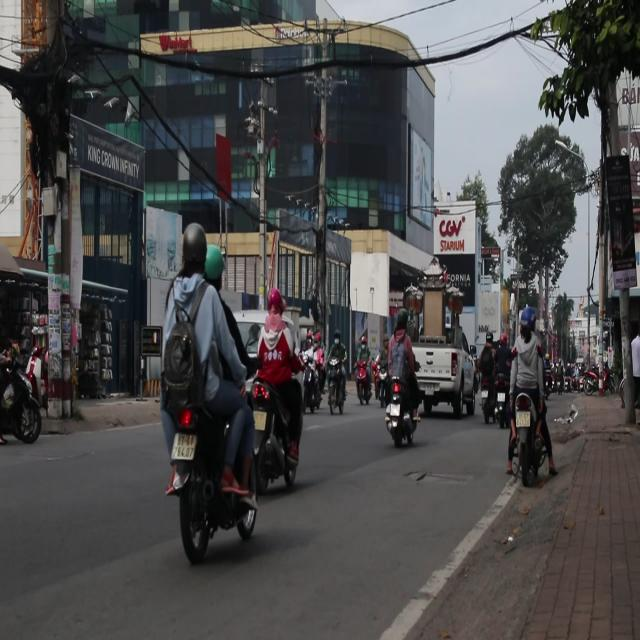car: (232, 319, 266, 366)
motorbike: (166, 370, 261, 565), (239, 370, 303, 498), (1, 348, 46, 444), (382, 378, 421, 448), (300, 348, 323, 415), (326, 354, 348, 413), (374, 367, 389, 406), (597, 371, 613, 396), (581, 373, 596, 394)
truck: (411, 336, 477, 416)
